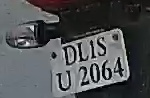0: (90, 62, 101, 84)
1: (88, 38, 98, 60)
2: (78, 66, 90, 87)
4: (112, 58, 127, 80)
6: (100, 60, 113, 82)
D: (61, 45, 78, 67)
L: (77, 42, 89, 63)
S: (96, 36, 108, 58)
U: (54, 70, 76, 92)
